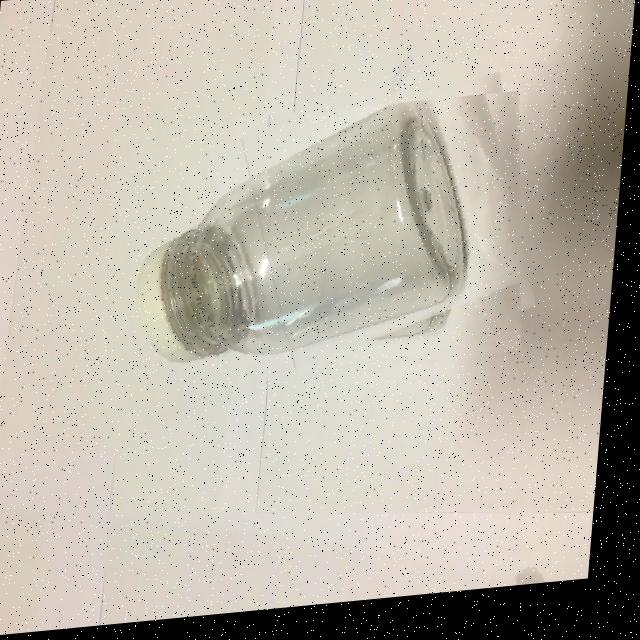litter: (97, 99, 544, 421), (120, 209, 223, 376)
